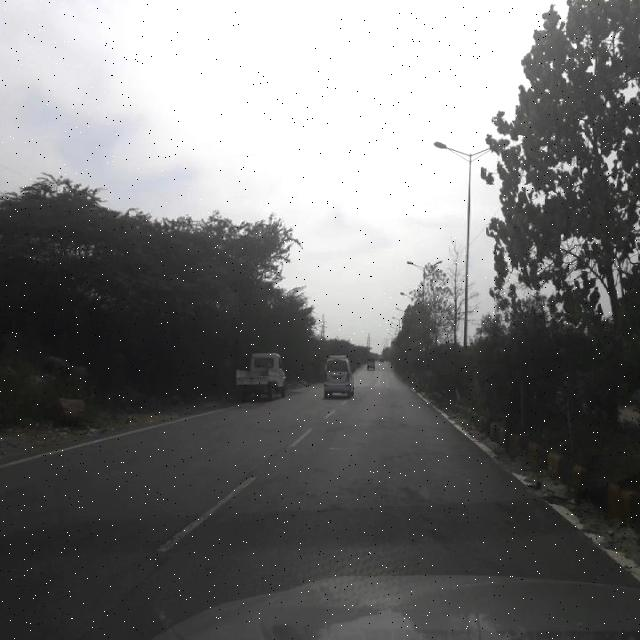D40: (374, 447, 435, 479), (364, 478, 424, 510)
D44: (158, 462, 265, 548)
